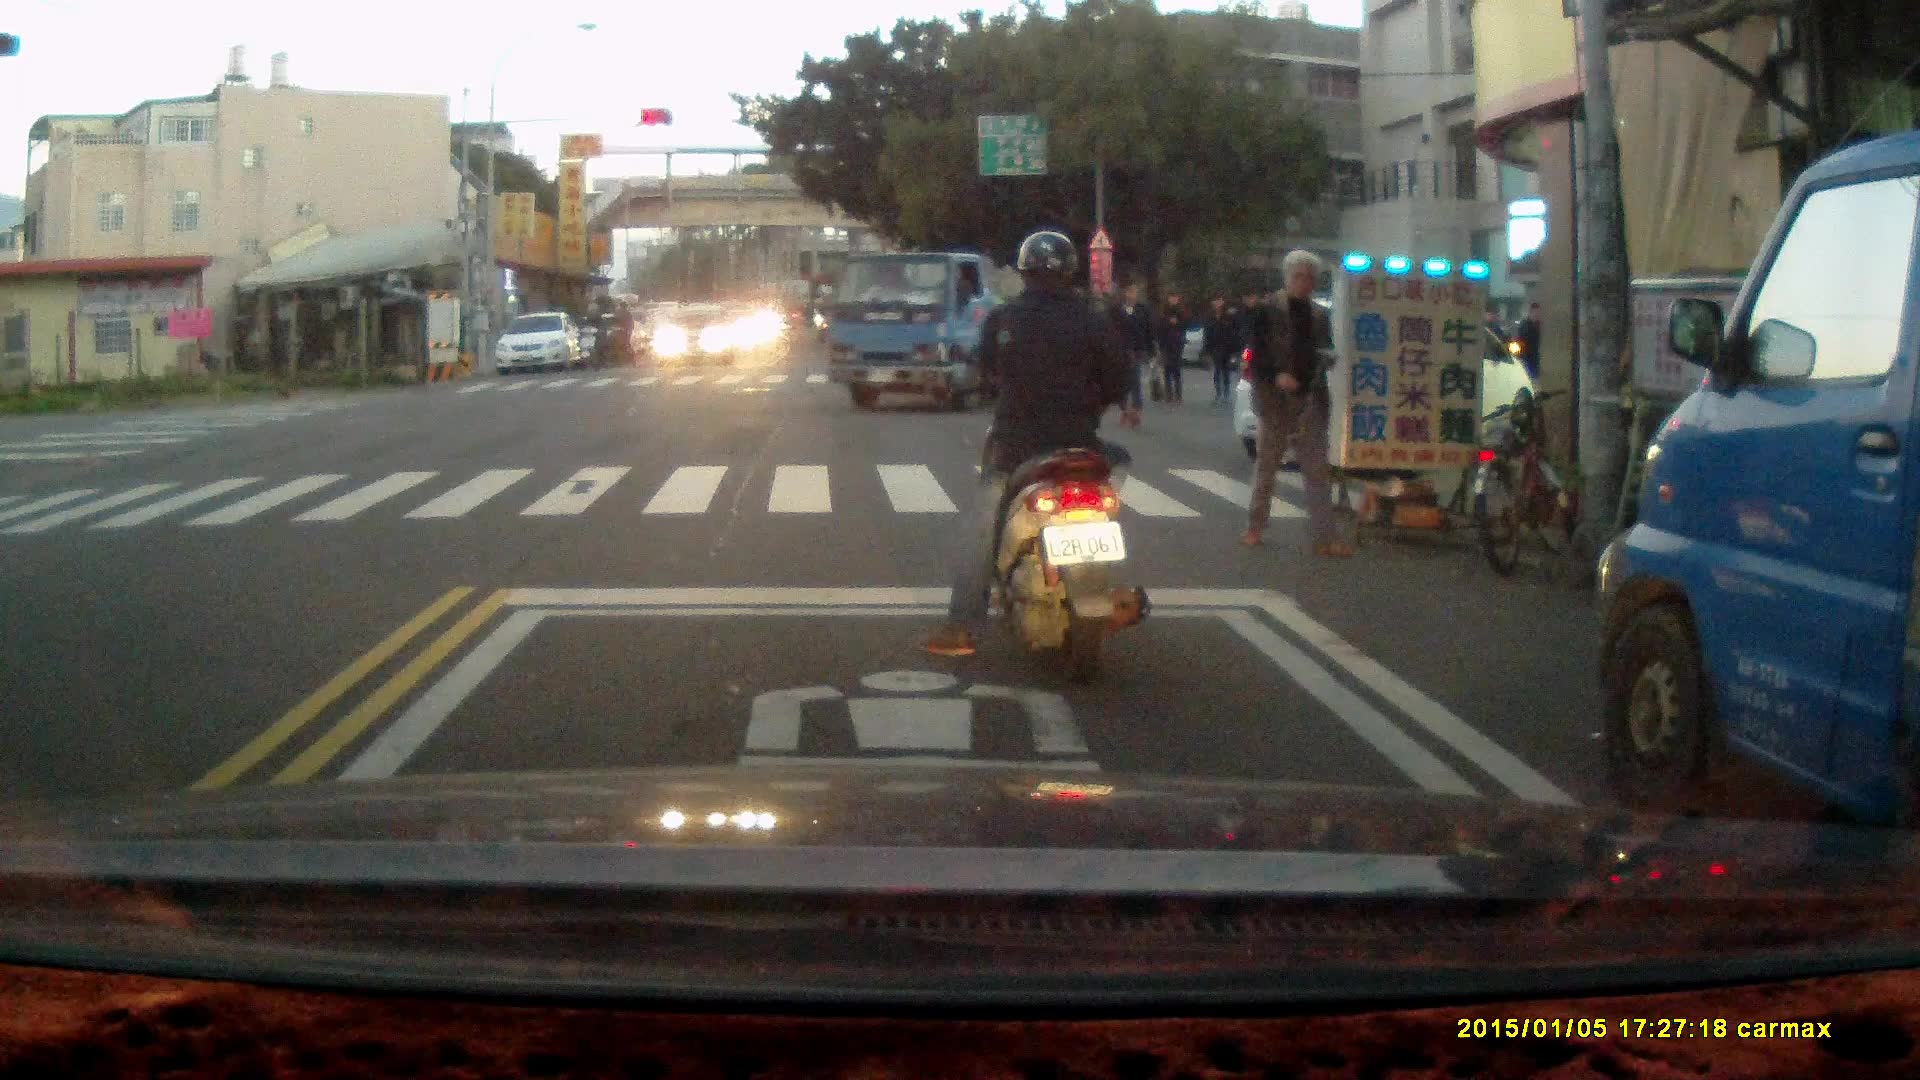pedestrian: (1236, 245, 1347, 558), (1098, 273, 1158, 431), (1198, 289, 1235, 410), (1158, 292, 1193, 409), (1520, 297, 1549, 381), (1474, 303, 1505, 384)
rider: (918, 225, 1150, 690), (577, 301, 612, 372), (600, 296, 634, 365)
vehicle: (1596, 120, 1920, 901), (1236, 303, 1533, 462), (818, 252, 1048, 414), (652, 297, 741, 368), (493, 311, 584, 378)
